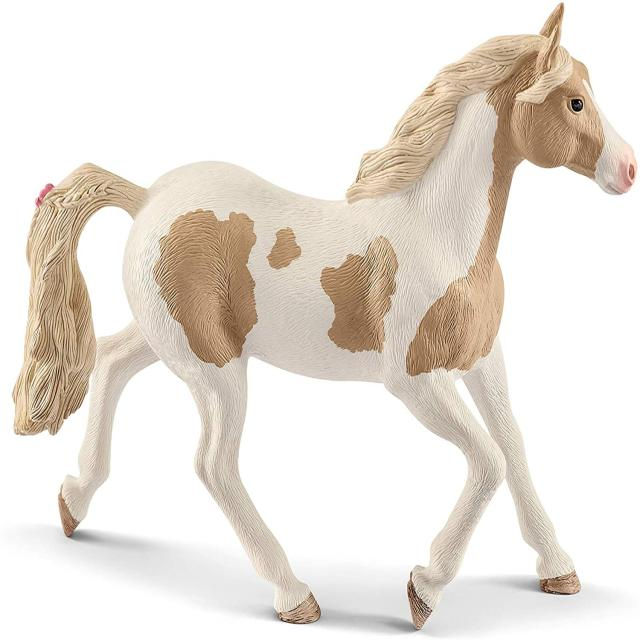Horse: (13, 10, 640, 640)
